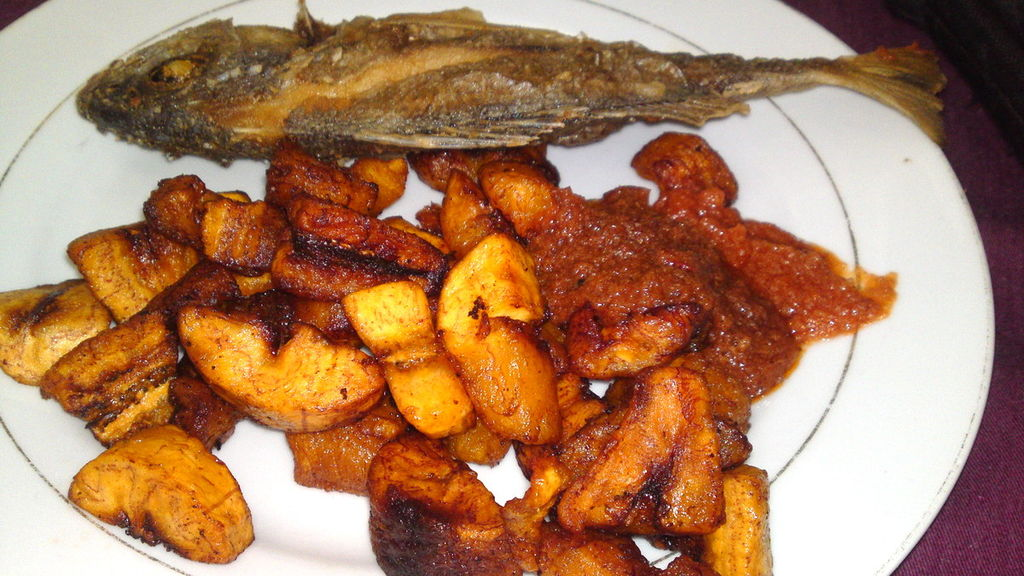alloco: (79, 186, 518, 520)
pigment: (603, 181, 833, 302)
poisson: (95, 14, 939, 145)
